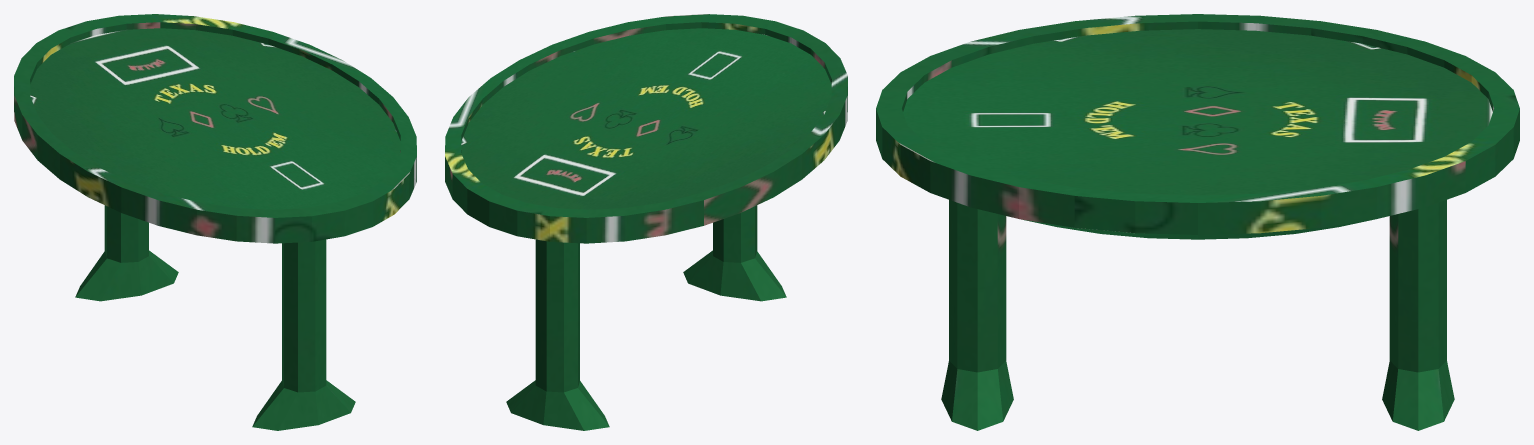
The model's file is Table.fbx.
3 views of the same model, side by side, from view 1: azimuth 30°, elevation 25°; view 2: azimuth 150°, elevation 25°; view 3: azimuth 270°, elevation 25° (orthographic). The views are drawn at different scales.
Parts seen in each view (by area): view 1: Cylinder; view 2: Cylinder; view 3: Cylinder.
Boxes of the visible parts, left/top/right/bottom form: Cylinder: left=14, top=14, right=416, bottom=430; Cylinder: left=445, top=14, right=847, bottom=430; Cylinder: left=876, top=14, right=1519, bottom=430.
Size of the model in its own units: 345 by 248 by 497.
1 material, 1 textured.
